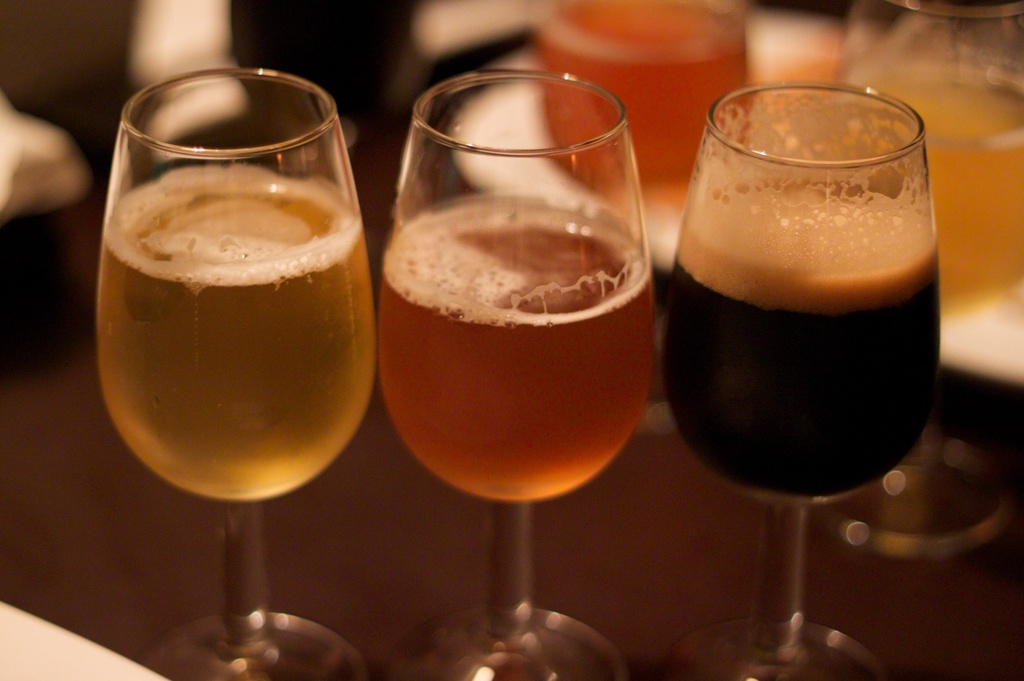Beer: (99, 167, 375, 506), (375, 204, 650, 504), (671, 207, 938, 501)
